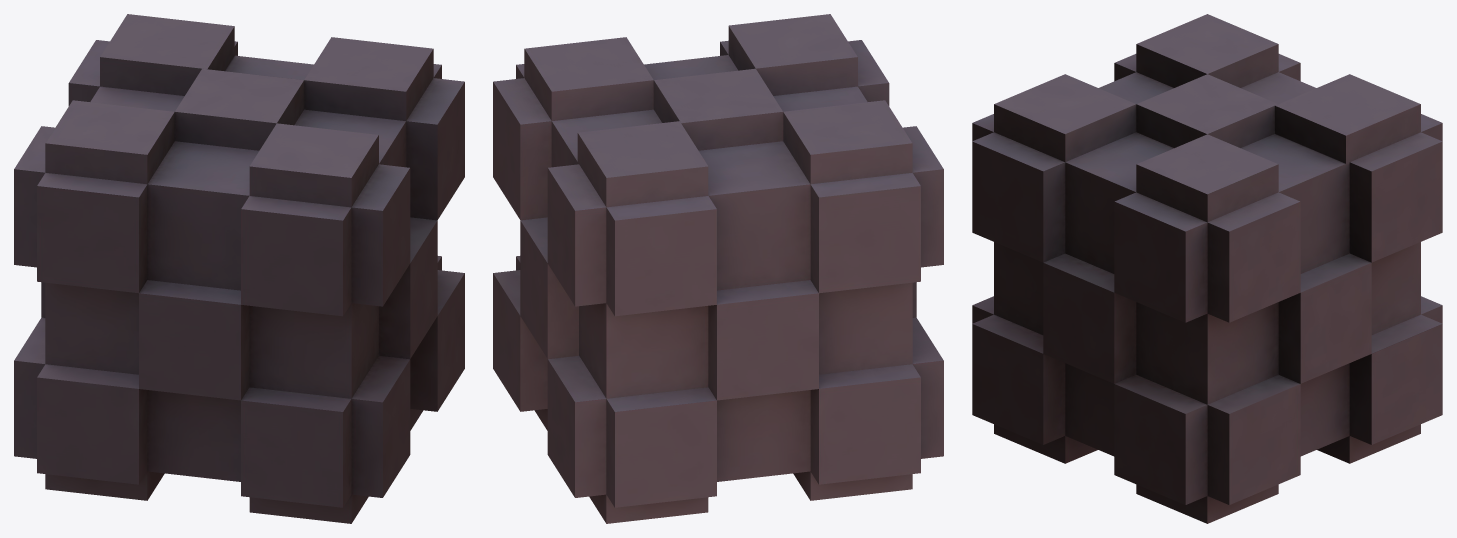
File: sculpture.dae
3 views of the same model, side by side, from view 1: azimuth 30°, elevation 25°; view 2: azimuth 150°, elevation 25°; view 3: azimuth 270°, elevation 25° (orthographic). The views are drawn at different scales.
Parts seen in each view (by area): view 1: model; view 2: model; view 3: model.
Boxes of the visible parts, left/top/right/bottom form: model: left=14, top=14, right=464, bottom=523; model: left=493, top=14, right=943, bottom=523; model: left=972, top=14, right=1442, bottom=523.
Size of the model in its own units: 5.13 by 3.97 by 5.13.
Materials: 1 (1 with a texture image).
